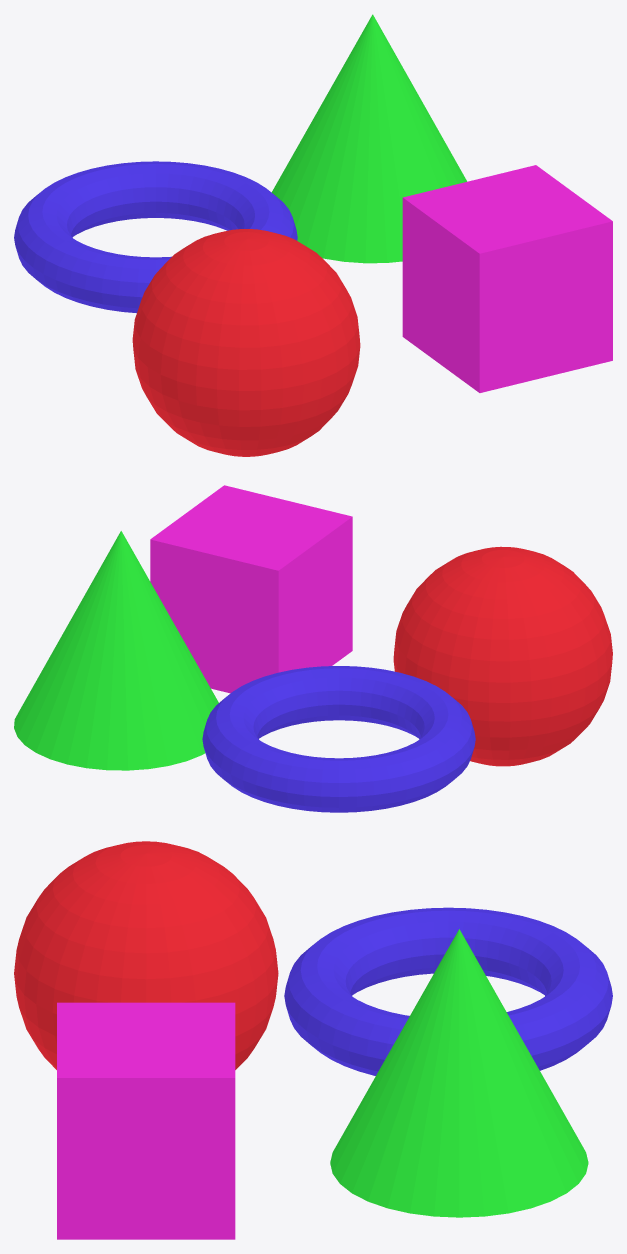
File: simple_shapes.glb
The picture shows the model from 3 angles, top to bottom: view 1: azimuth 30°, elevation 25°; view 2: azimuth 150°, elevation 25°; view 3: azimuth 270°, elevation 25°; orthographic projection. The views are drawn at different scales.
Visible parts, largest first — view 1: Sphere, Cube, Cone, Torus; view 2: Sphere, Cube, Cone, Torus; view 3: Cube, Cone, Sphere, Torus.
Boxes of the visible parts, <box> form: Sphere: <box>132,229,360,456</box>; Cube: <box>402,165,612,392</box>; Cone: <box>271,14,466,263</box>; Torus: <box>14,161,297,313</box>; Sphere: <box>393,546,612,766</box>; Cube: <box>150,485,352,693</box>; Cone: <box>14,531,218,770</box>; Torus: <box>202,666,475,812</box>; Cube: <box>57,1002,235,1239</box>; Cone: <box>330,929,588,1217</box>; Sphere: <box>14,841,278,1069</box>; Torus: <box>284,907,612,1075</box>.
Bounding box in the file's own units: 14.99 × 8.46 × 14.7.
